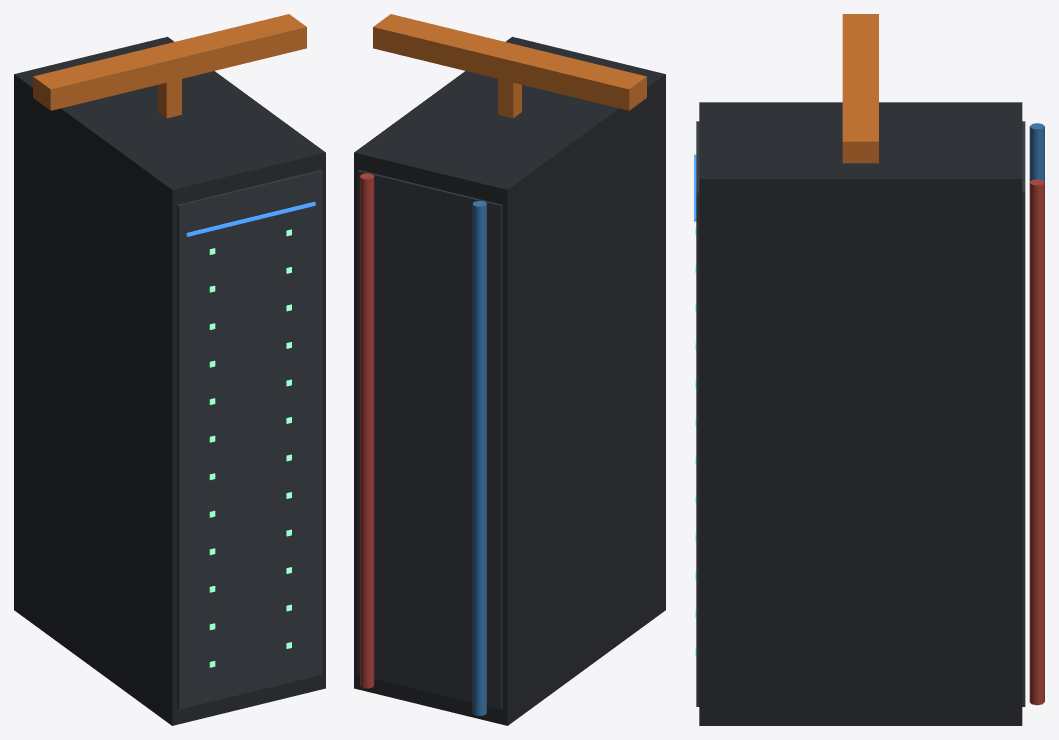
The model's file is dc-rack-ai.glb.
3 views of the same model, side by side, from view 1: azimuth 30°, elevation 25°; view 2: azimuth 150°, elevation 25°; view 3: azimuth 270°, elevation 25° (orthographic). The views are drawn at different scales.
Visible parts, largest first — view 1: kit-dc-rack-130; view 2: kit-dc-rack-130; view 3: kit-dc-rack-130.
Boxes of the visible parts, x1,y1,x2,y2 form: kit-dc-rack-130: (14,14,325,725); kit-dc-rack-130: (354,14,665,725); kit-dc-rack-130: (694,14,1044,725).
Size of the model in its own units: 1 by 2.23 by 1.16.
